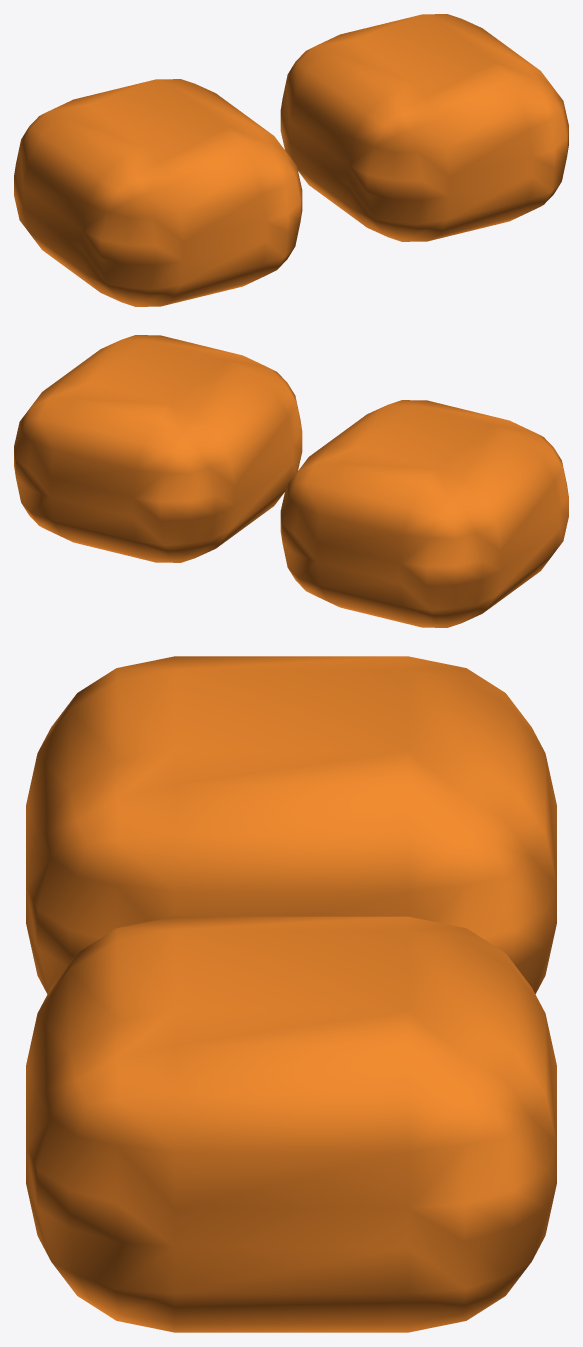
File: chr_player_capsule01_cat_feet_top3d_v002.glb
3 views of the same model, one above another, from view 1: azimuth 30°, elevation 25°; view 2: azimuth 150°, elevation 25°; view 3: azimuth 270°, elevation 25° (orthographic). The views are drawn at different scales.
Visible parts, largest first — view 1: FootL, FootR; view 2: FootL, FootR; view 3: FootR, FootL.
Part boxes in pixels (x1,y1,x2,y2): FootL: (14, 79, 302, 306); FootR: (280, 14, 568, 241); FootL: (280, 400, 568, 627); FootR: (14, 335, 302, 562); FootR: (26, 916, 556, 1332); FootL: (26, 656, 556, 993).
Size of the model in its own units: 1.04 by 0.32 by 0.5.
